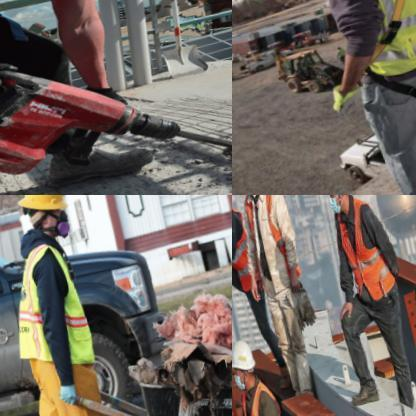vest: (0, 233, 100, 389), (314, 0, 415, 97), (329, 201, 400, 313), (234, 195, 301, 291), (232, 196, 258, 310), (232, 379, 289, 415)
